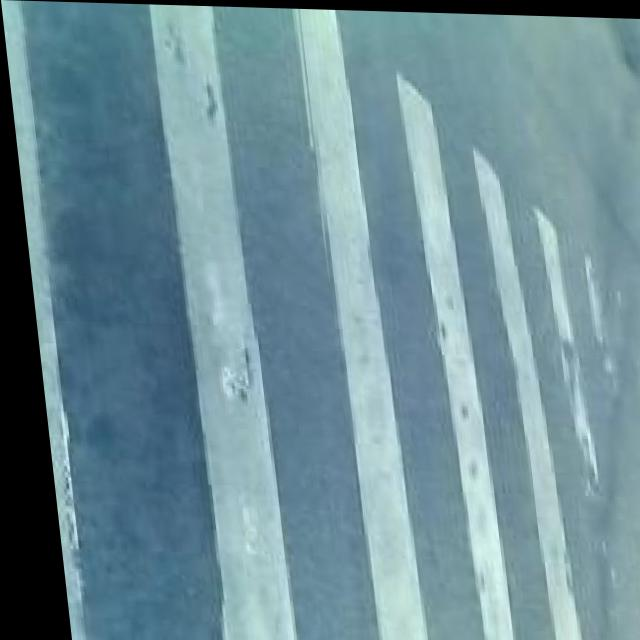zebra: (39, 186, 596, 640)
